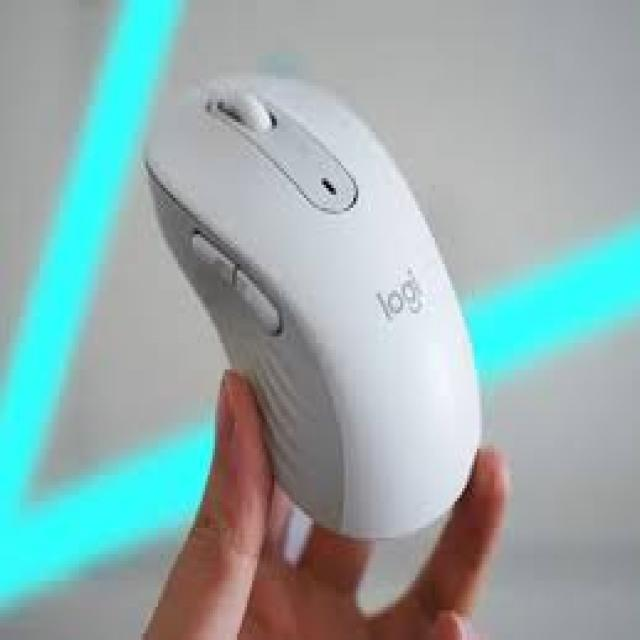others: (124, 66, 516, 541)
